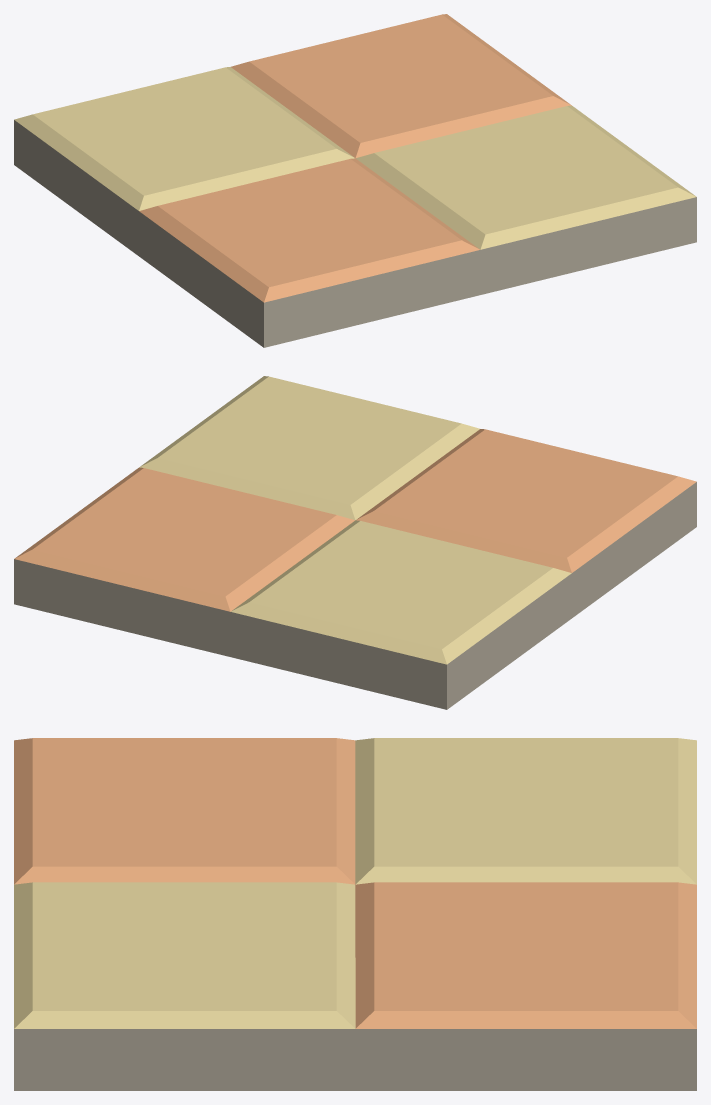
File: Mesh_GroundCeramic_P1.fbx
3 views of the same model, one above another, from view 1: azimuth 30°, elevation 25°; view 2: azimuth 150°, elevation 25°; view 3: azimuth 270°, elevation 25° (orthographic). The views are drawn at different scales.
Visible parts, largest first — view 1: Mesh_GroundCeramic_P1; view 2: Mesh_GroundCeramic_P1; view 3: Mesh_GroundCeramic_P1.
Part boxes in pixels (x1,y1,x2,y2): Mesh_GroundCeramic_P1: (14,14,696,347); Mesh_GroundCeramic_P1: (14,376,696,709); Mesh_GroundCeramic_P1: (14,738,696,1090).
Bounding box in the file's own units: 1 × 0.1164 × 1.
